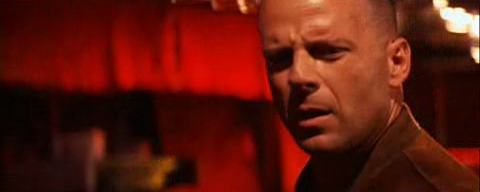cu: (1, 1, 480, 192)
face: (256, 1, 387, 154)
person: (257, 1, 480, 192)
